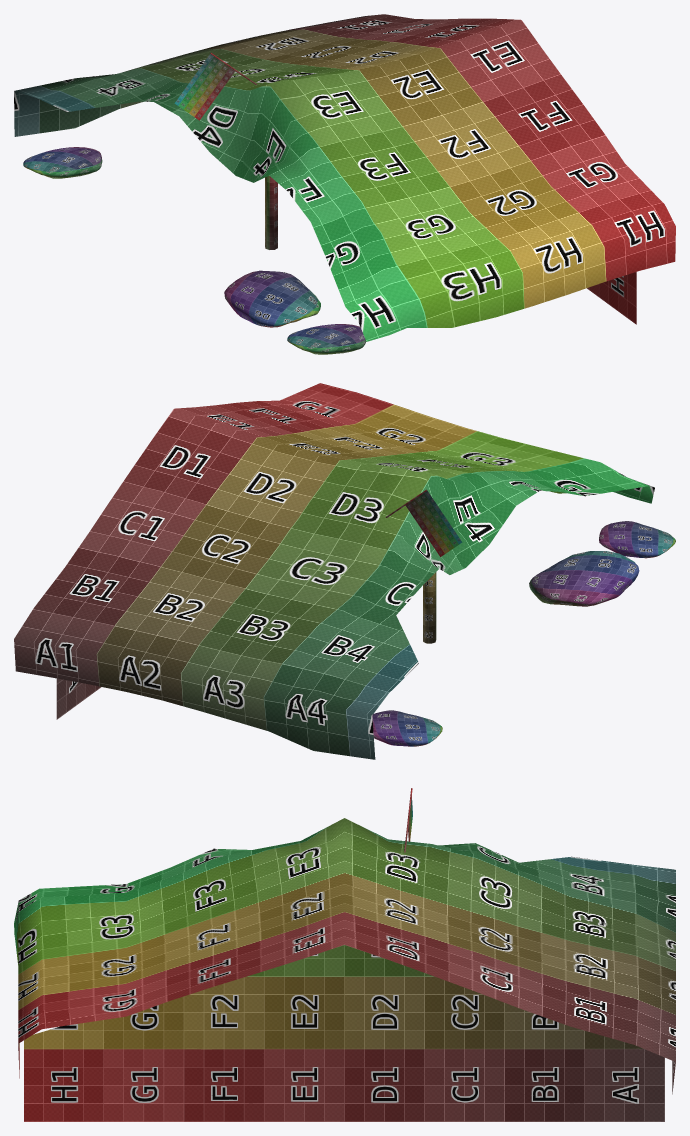
File: tent3_1953.glb
3 views of the same model, one above another, from view 1: azimuth 30°, elevation 25°; view 2: azimuth 150°, elevation 25°; view 3: azimuth 270°, elevation 25° (orthographic). The views are drawn at different scales.
Visible parts, largest first — view 1: BACK.3; view 2: BACK.3; view 3: BACK.3.
Part boxes in pixels (<box>): BACK.3: <box>14,14,675,354</box>; BACK.3: <box>14,383,675,759</box>; BACK.3: <box>14,788,675,1121</box>.
Size of the model in its own units: 6.58 by 3.3 by 9.48.
Materials: 2 (2 with a texture image).
